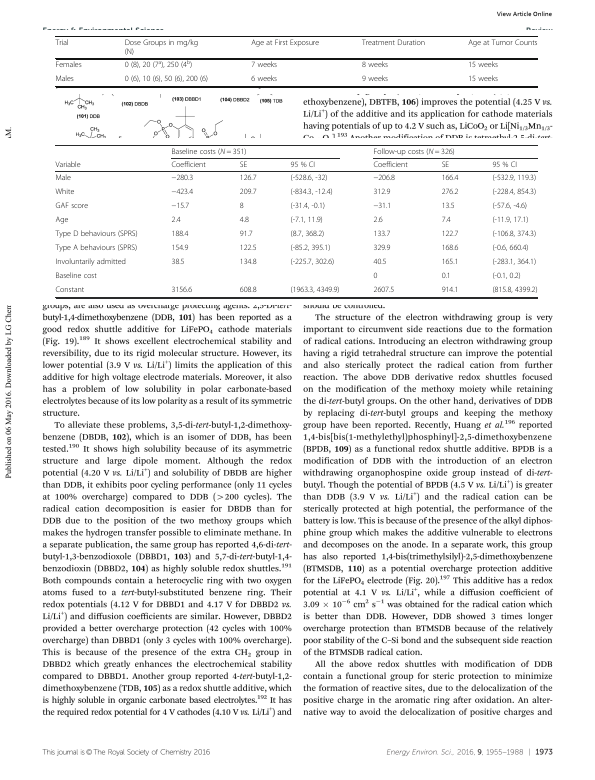borderless: (54, 143, 537, 297), (54, 35, 537, 86)
cell: (124, 39, 199, 57), (124, 75, 209, 85), (54, 229, 138, 239), (54, 243, 138, 253), (124, 59, 193, 71), (372, 147, 456, 156), (54, 257, 127, 267), (171, 147, 247, 156), (467, 39, 538, 48), (250, 39, 320, 48), (361, 39, 426, 48), (290, 285, 340, 295), (491, 285, 538, 295), (491, 173, 537, 183), (491, 187, 537, 197), (491, 229, 537, 239), (491, 257, 537, 267), (290, 257, 335, 267), (54, 271, 98, 281), (290, 187, 333, 197), (290, 243, 331, 253), (290, 173, 328, 183), (491, 215, 529, 225), (491, 243, 529, 253), (372, 160, 409, 170), (491, 201, 528, 211), (171, 160, 207, 170), (290, 201, 326, 211), (54, 201, 89, 211), (290, 229, 325, 239), (290, 215, 324, 225), (467, 61, 499, 71), (467, 75, 499, 85), (491, 271, 522, 281), (54, 285, 85, 295), (250, 61, 278, 71), (361, 61, 389, 71), (250, 75, 278, 85), (361, 75, 389, 85), (54, 160, 81, 170), (491, 160, 518, 170), (55, 61, 82, 71), (290, 160, 316, 170), (372, 173, 396, 183), (171, 173, 194, 183), (171, 187, 194, 197), (372, 285, 395, 295), (171, 285, 193, 295), (54, 187, 75, 197), (54, 75, 75, 85), (372, 201, 392, 211), (372, 187, 391, 197), (171, 201, 190, 211), (372, 229, 391, 239), (372, 243, 391, 253), (54, 173, 72, 183), (239, 173, 257, 183), (441, 173, 459, 183), (239, 187, 257, 197), (441, 187, 459, 197), (171, 229, 189, 239), (441, 229, 459, 239), (171, 243, 189, 253), (239, 243, 257, 253), (441, 243, 459, 253), (239, 257, 257, 267), (441, 257, 459, 267), (239, 285, 257, 295), (441, 285, 459, 295), (54, 215, 69, 225), (239, 229, 254, 239), (372, 257, 387, 267), (441, 201, 455, 211), (171, 257, 185, 267), (55, 39, 69, 48), (171, 215, 182, 225), (239, 215, 250, 225), (372, 215, 383, 225), (441, 215, 452, 225), (441, 271, 452, 281), (239, 160, 248, 170), (441, 160, 450, 170), (239, 201, 245, 211), (372, 271, 378, 281)
